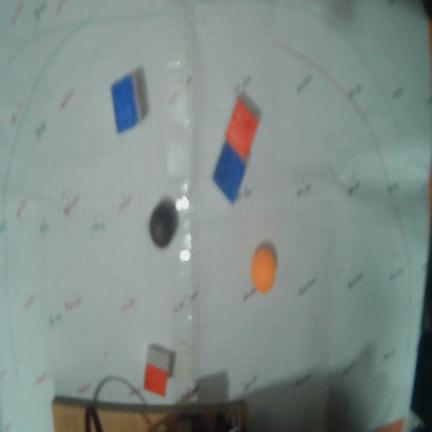circle_blue: (150, 198, 178, 248)
circle_orange: (251, 247, 276, 292)
rectangle_blue: (114, 78, 138, 134)
square_blue: (212, 142, 246, 203)
square_orange: (225, 98, 258, 161)
